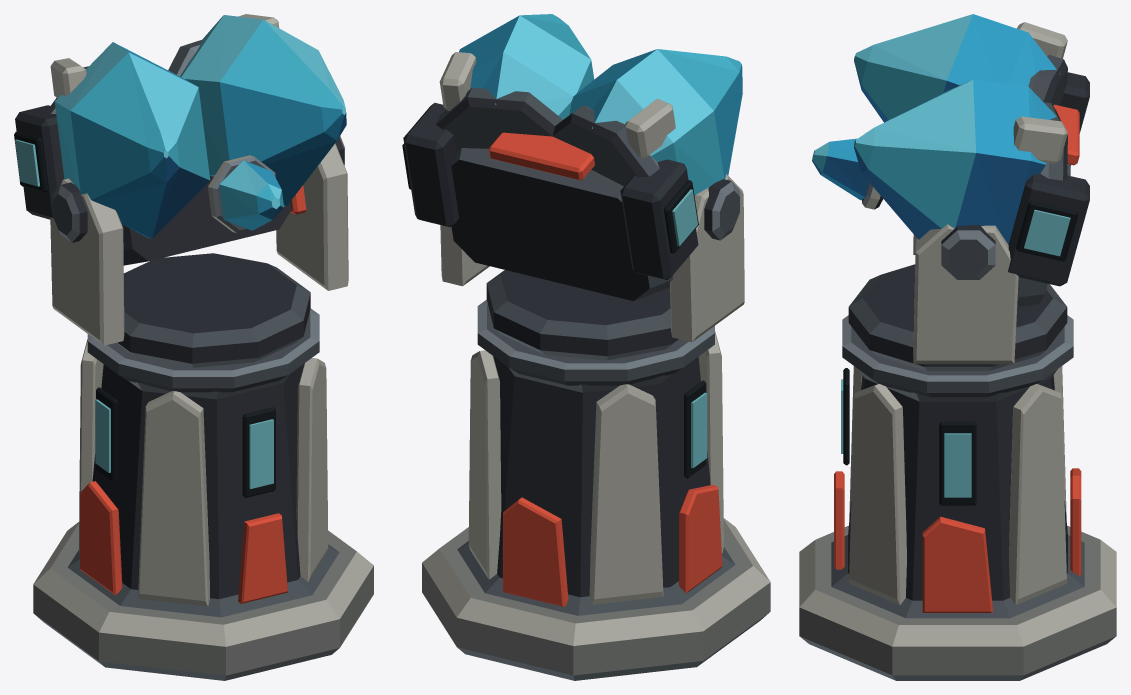
File: lv4_givre.glb
The picture shows the model from 3 angles, left to right: view 1: azimuth 30°, elevation 25°; view 2: azimuth 150°, elevation 25°; view 3: azimuth 270°, elevation 25°; orthographic projection. The views are drawn at different scales.
Parts seen in each view (by area): view 1: Base, Barrel_Recoil, Turret_Yaw, Base_TeamColor; view 2: Base, Barrel_Recoil, Turret_Yaw, Base_TeamColor, Team_Panels; view 3: Base, Barrel_Recoil, Turret_Yaw, Base_TeamColor, Team_Panels.
Part boxes in pixels (x1,y1,x2,y2): Base: (33,308,373,680); Barrel_Recoil: (14,14,346,265); Turret_Yaw: (50,136,348,367); Base_TeamColor: (80,481,287,603); Base: (422,299,770,680); Barrel_Recoil: (402,14,742,301); Turret_Yaw: (440,174,744,360); Base_TeamColor: (503,485,722,606); Team_Panels: (488,132,594,180); Base: (799,315,1116,680); Barrel_Recoil: (812,14,1089,306); Turret_Yaw: (848,224,1067,370); Base_TeamColor: (834,468,1081,612); Team_Panels: (1053,104,1079,165).
Size of the model in its own units: 1.76 by 3.5 by 1.76.
